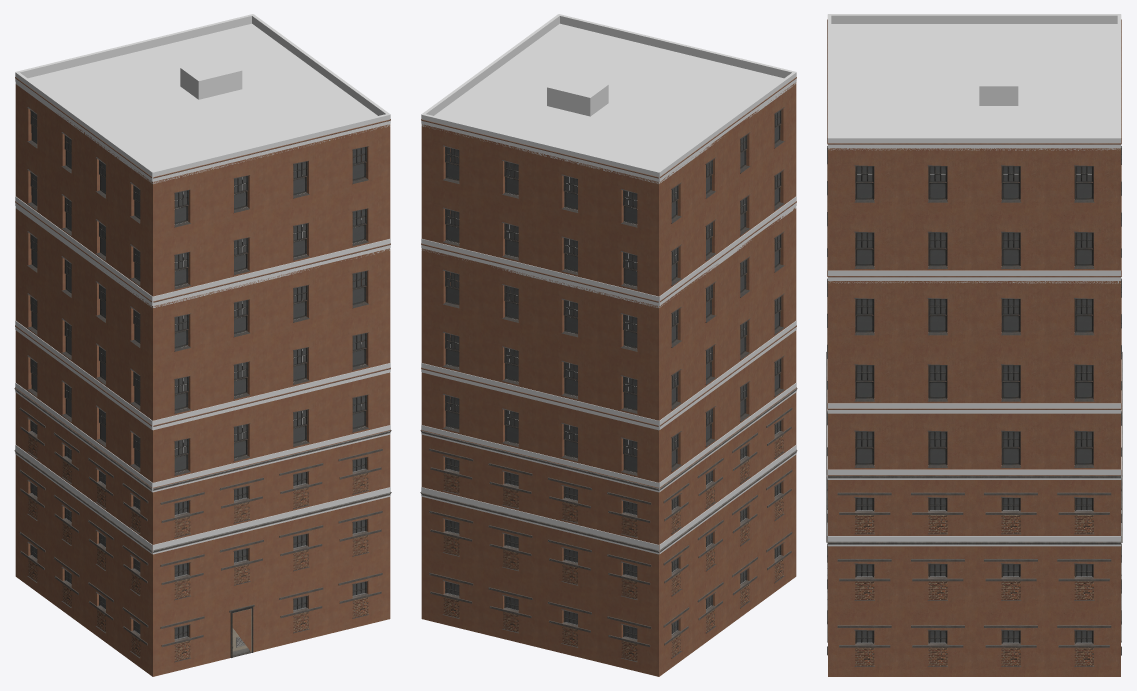
File: real-city.glb
3 renders of one model, left to right at view 1: azimuth 30°, elevation 25°; view 2: azimuth 150°, elevation 25°; view 3: azimuth 270°, elevation 25°, orthographic. The views are drawn at different scales.
Visible parts, largest first — view 1: city-c-Mesh, city-d-Mesh, city-d-low-Mesh, city-e-Mesh, city-f-Mesh, city-c-low-Mesh, city-b-Mesh, city-a-low-Mesh, city-b-low-Mesh, city-a-Mesh; view 2: city-c-Mesh, city-d-Mesh, city-d-low-Mesh, city-f-Mesh, city-e-Mesh, city-b-Mesh, city-c-low-Mesh, city-a-low-Mesh, city-b-low-Mesh, city-a-Mesh; view 3: city-c-Mesh, city-d-Mesh, city-d-low-Mesh, city-e-Mesh, city-b-Mesh, city-f-Mesh, city-a-low-Mesh, city-a-Mesh, city-c-low-Mesh.
Boxes of the visible parts, x1,y1,x2,y2 form: city-c-Mesh: (15,177,390,676); city-d-Mesh: (16,14,390,633); city-d-low-Mesh: (15,14,390,580); city-e-Mesh: (14,444,391,661); city-f-Mesh: (14,388,391,661); city-c-low-Mesh: (15,171,390,652); city-b-Mesh: (28,295,390,643); city-a-low-Mesh: (15,382,390,492); city-b-low-Mesh: (15,295,390,634); city-a-Mesh: (15,387,390,650); city-c-Mesh: (421,183,796,676); city-d-Mesh: (421,14,796,633); city-d-low-Mesh: (421,14,796,622); city-f-Mesh: (420,388,797,660); city-e-Mesh: (420,444,797,661); city-b-Mesh: (421,295,784,650); city-c-low-Mesh: (421,171,796,637); city-a-low-Mesh: (421,382,796,492); city-b-low-Mesh: (422,295,796,633); city-a-Mesh: (421,387,796,637); city-c-Mesh: (827,164,1121,676); city-d-Mesh: (827,14,1121,643); city-d-low-Mesh: (827,14,1121,240); city-e-Mesh: (826,476,1122,666); city-b-Mesh: (827,297,1121,644); city-f-Mesh: (826,352,1122,651); city-a-low-Mesh: (827,409,1121,479); city-a-Mesh: (827,475,1121,646); city-c-low-Mesh: (827,164,1121,466).
Size of the model in its own units: 12.14 by 24.9 by 12.14.
10 materials, 9 textured.
